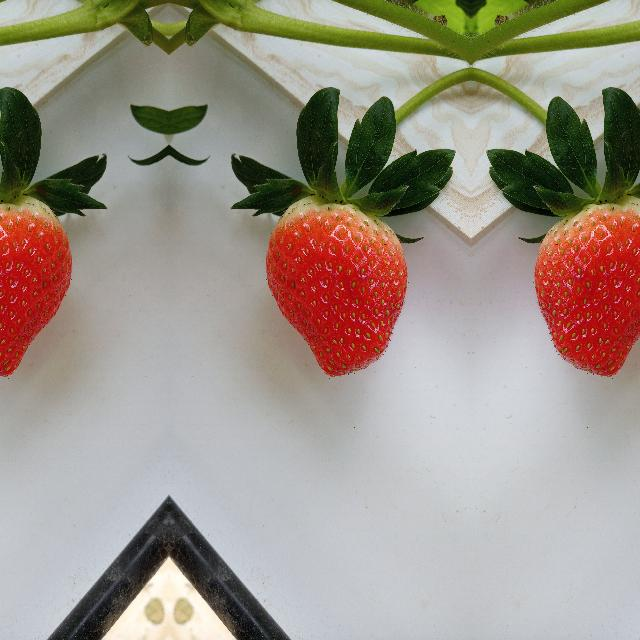Health_100: (264, 194, 408, 378), (533, 193, 640, 378), (0, 193, 71, 378)
